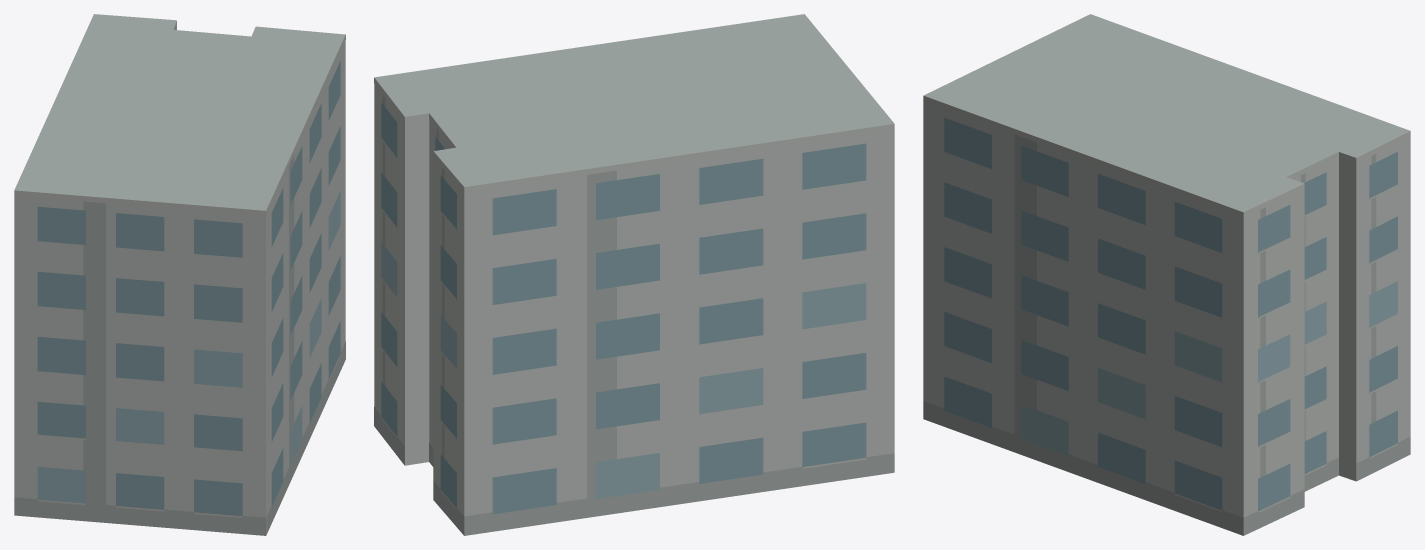
File: survey-upis-32883141.glb
The picture shows the model from 3 angles, left to right: view 1: azimuth 30°, elevation 25°; view 2: azimuth 150°, elevation 25°; view 3: azimuth 270°, elevation 25°; orthographic projection. The views are drawn at different scales.
Parts seen in each view (by area): view 1: survey-upis-32883141.tmp; view 2: survey-upis-32883141.tmp; view 3: survey-upis-32883141.tmp.
Boxes of the visible parts, <box> form: survey-upis-32883141.tmp: <box>14,14,345,535</box>; survey-upis-32883141.tmp: <box>374,14,894,535</box>; survey-upis-32883141.tmp: <box>923,14,1410,535</box>.
Bounding box in the file's own units: 19.14 × 14.55 × 19.86.
